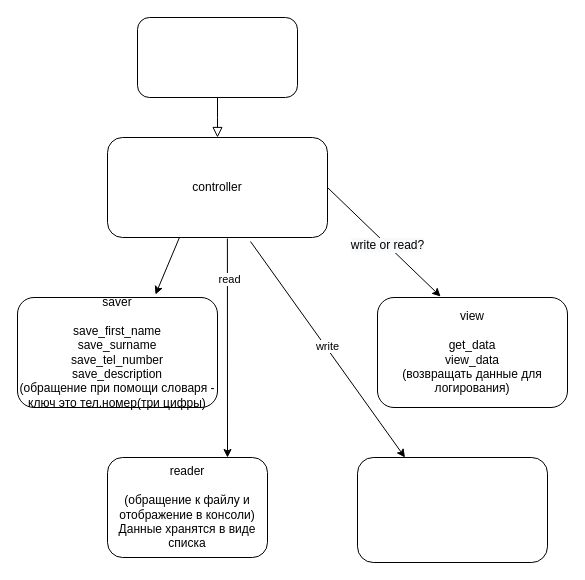
The diagram is 585 pixels wide and 580 high, and some of its shapes have lost their labels. Here are the shapes that lost their labels. From the top down, the centre of each, then its label:
point (217, 57): import controller main (button_click)
point (452, 509): genarator_data write_first_name write_surname write_tel_number write_description
